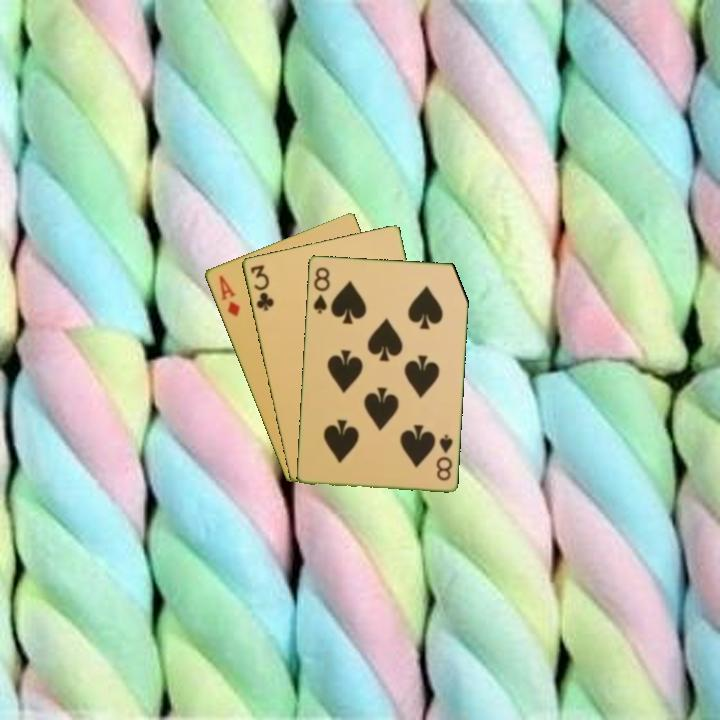3c: (247, 261, 276, 314)
8s: (309, 263, 333, 316), (433, 430, 455, 483)
Ad: (215, 272, 243, 320)
